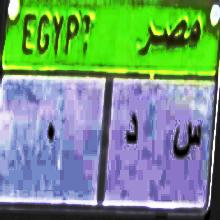0: (41, 115, 63, 151)
daal: (122, 102, 142, 154)
seen: (168, 103, 205, 170)
